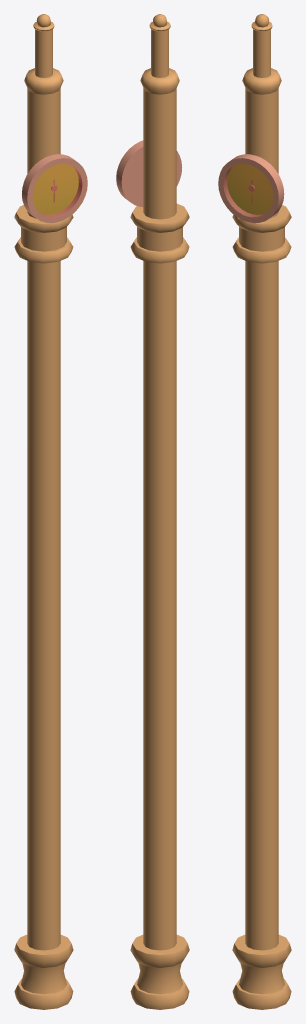
File: SP_CurrentPole01.fbx
3 views of the same model, side by side, from view 1: azimuth 30°, elevation 25°; view 2: azimuth 210°, elevation 25°; view 3: azimuth 330°, elevation 25° (orthographic).
Parts seen in each view (by area): view 1: SP_CurrentPole01; view 2: SP_CurrentPole01; view 3: SP_CurrentPole01.
Part boxes in pixels (box(x1,y1,x2,y2)): SP_CurrentPole01: box(14, 14, 87, 1009); SP_CurrentPole01: box(116, 14, 189, 1009); SP_CurrentPole01: box(218, 14, 291, 1009).
Bounding box in the file's own units: 0.203 × 3.15 × 0.1836.
